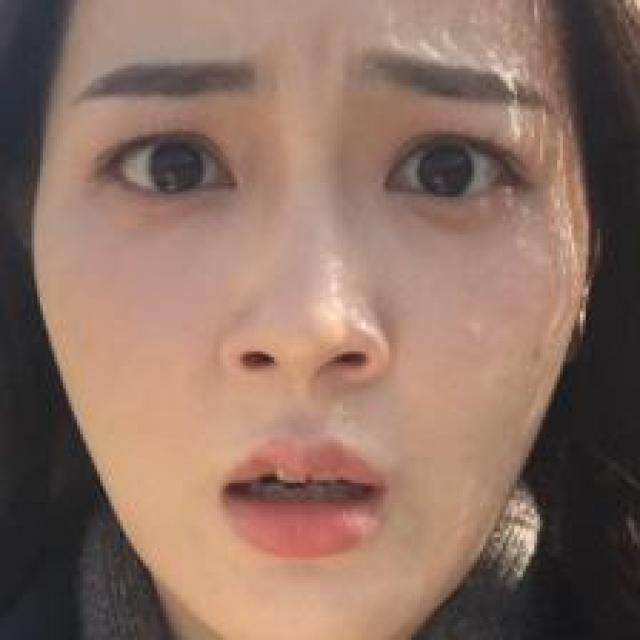fear: (58, 44, 567, 586)
